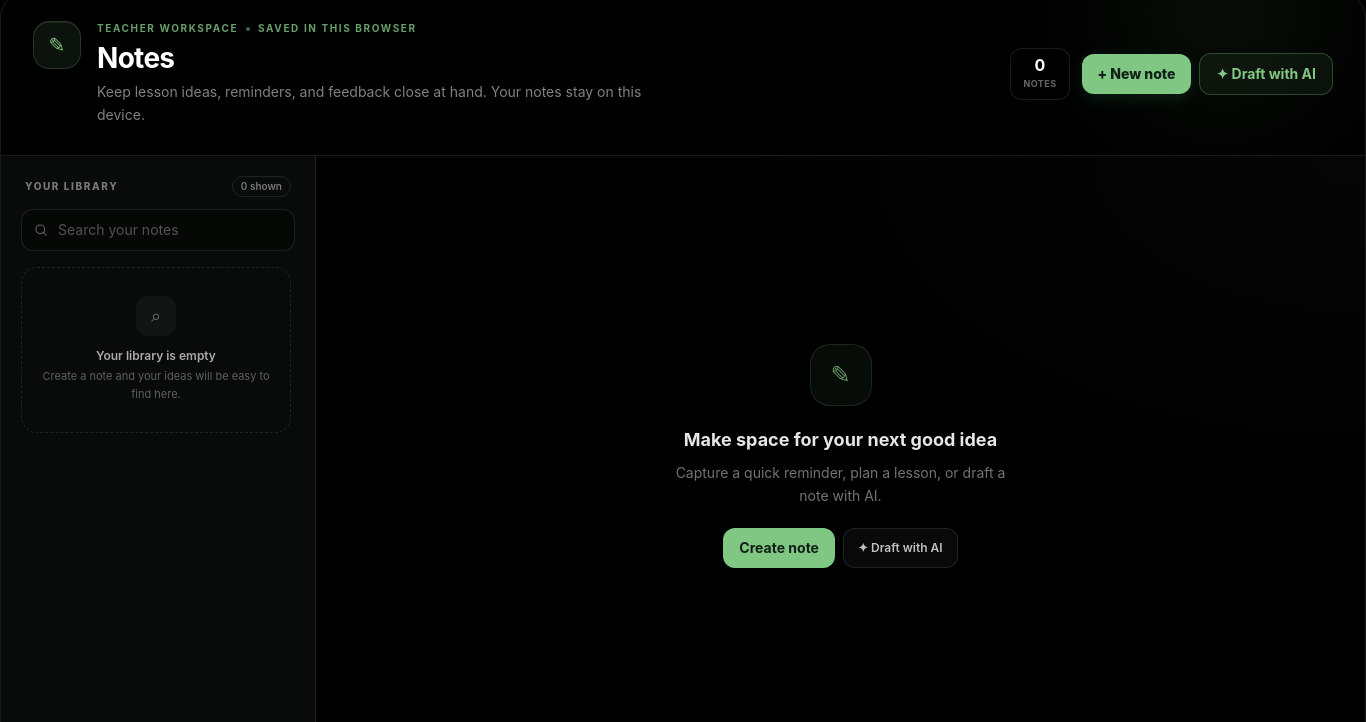
Test: Notes user workflows › asks for a specific topic instead of saving a note for a one-word prompt
Click the 1st button "✦ Draft with AI" at (1266, 74), box [1200, 53, 1333, 95]
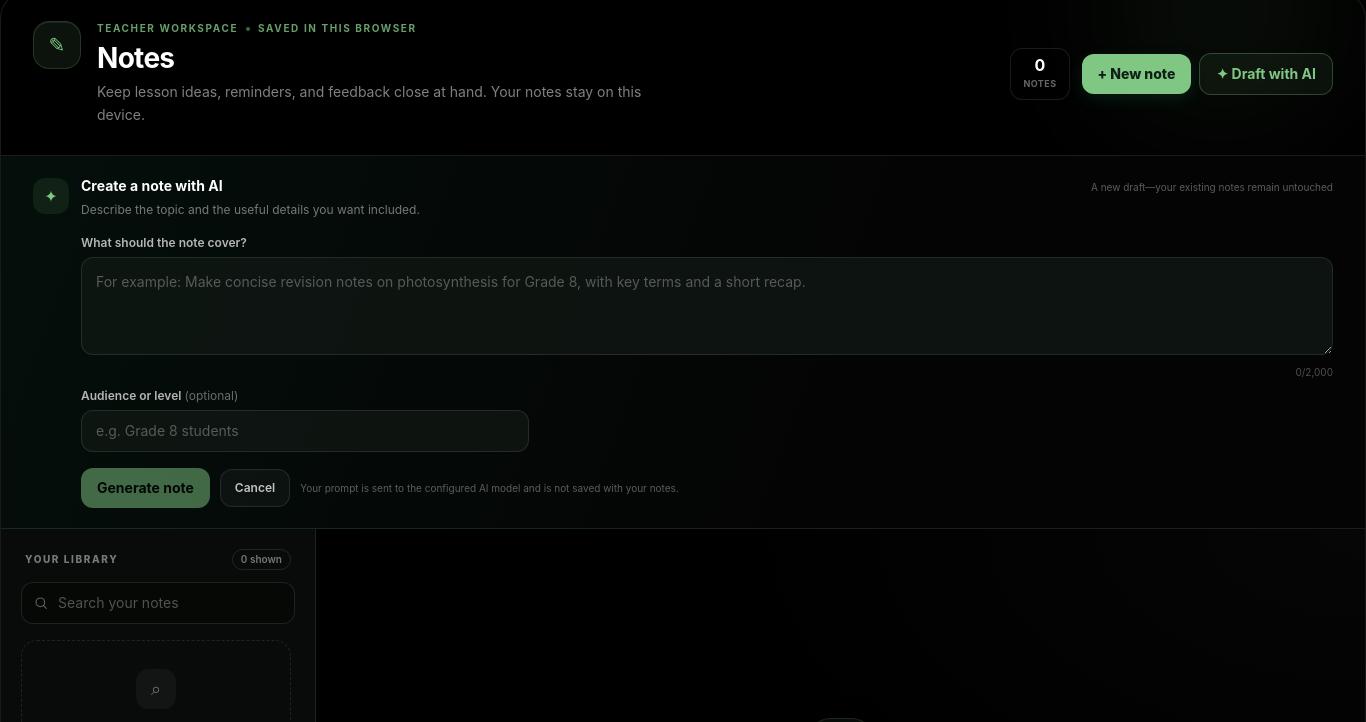
Replace the text in the text box labelled "What should the note cover?" with "poop." at (707, 306), box [81, 257, 1333, 355]
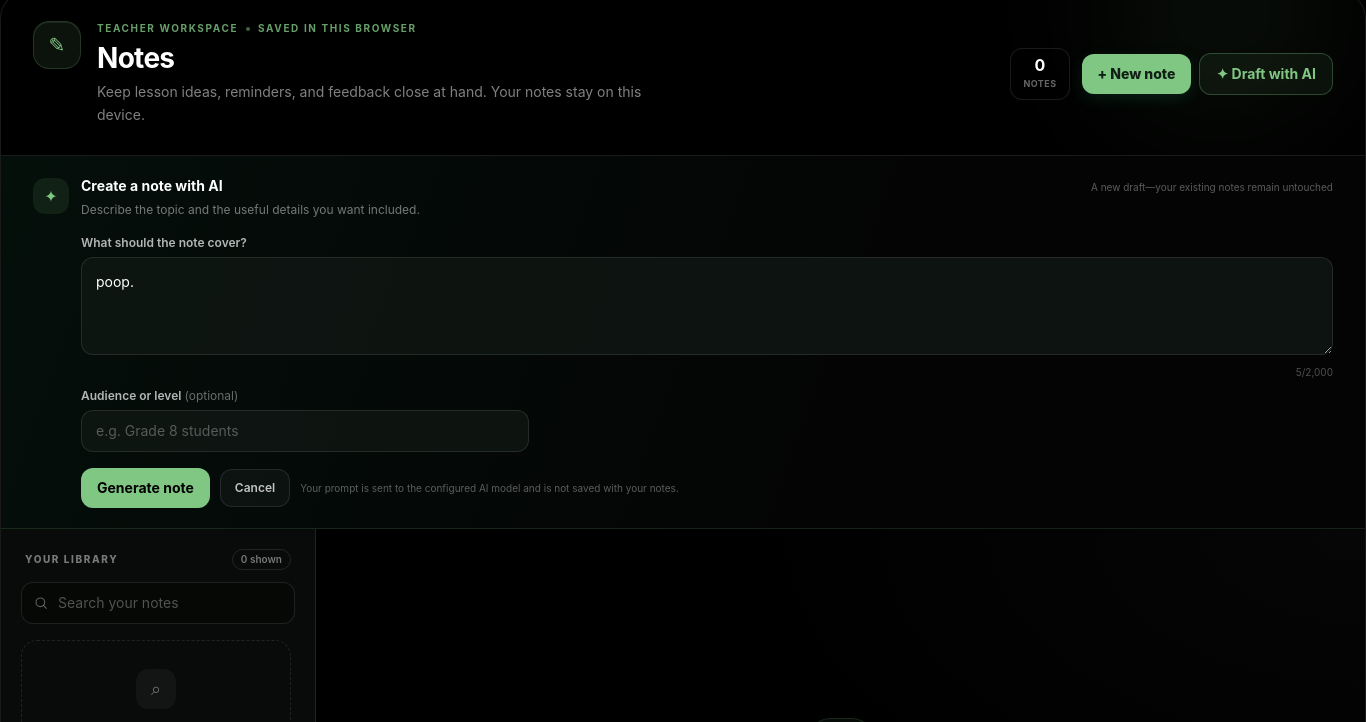
Click the button "Generate note" at (145, 488), box [81, 468, 210, 508]
(page scrolled)
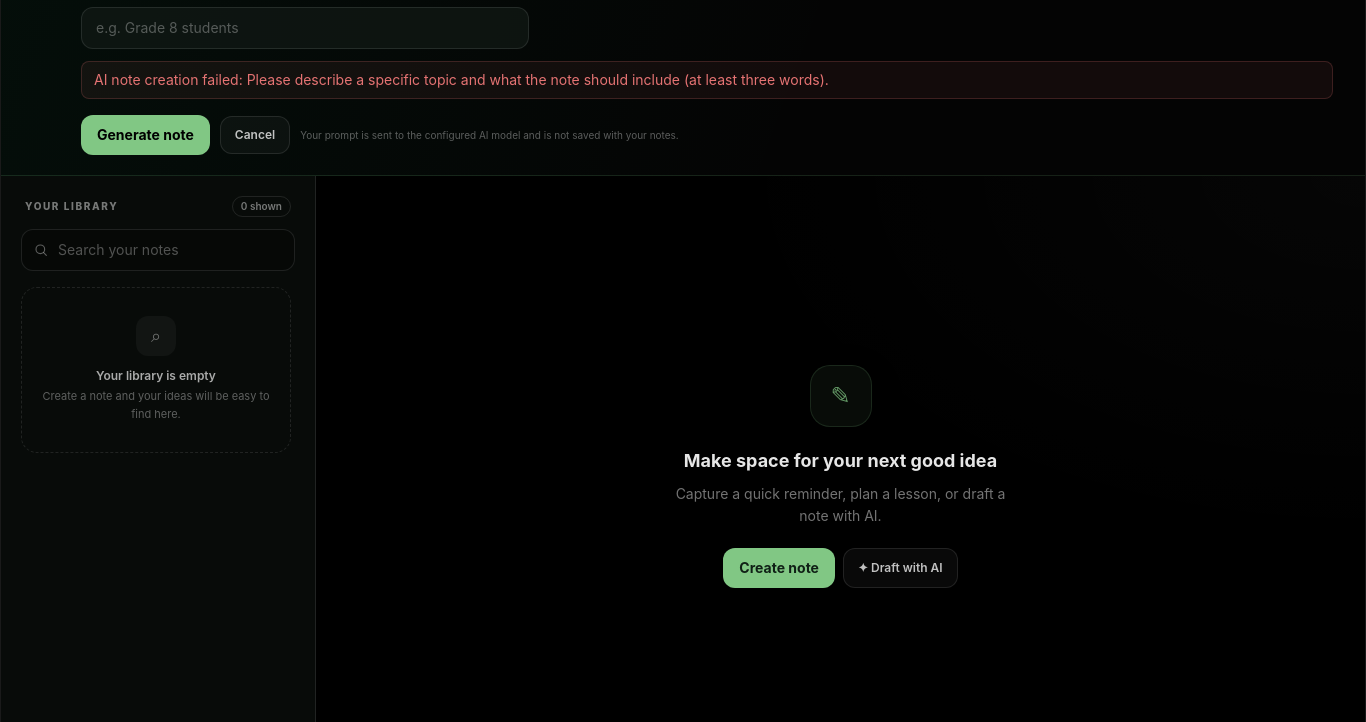
Expected: the text "Your library is empty" is shown, [96, 368, 216, 383]
Result: the message shows "specific topic" at [247, 71, 829, 88]
